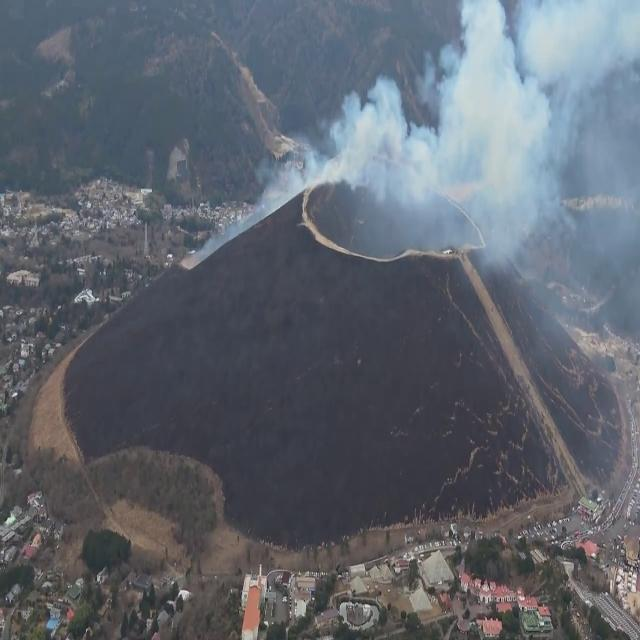Smoke: (317, 0, 639, 245)
